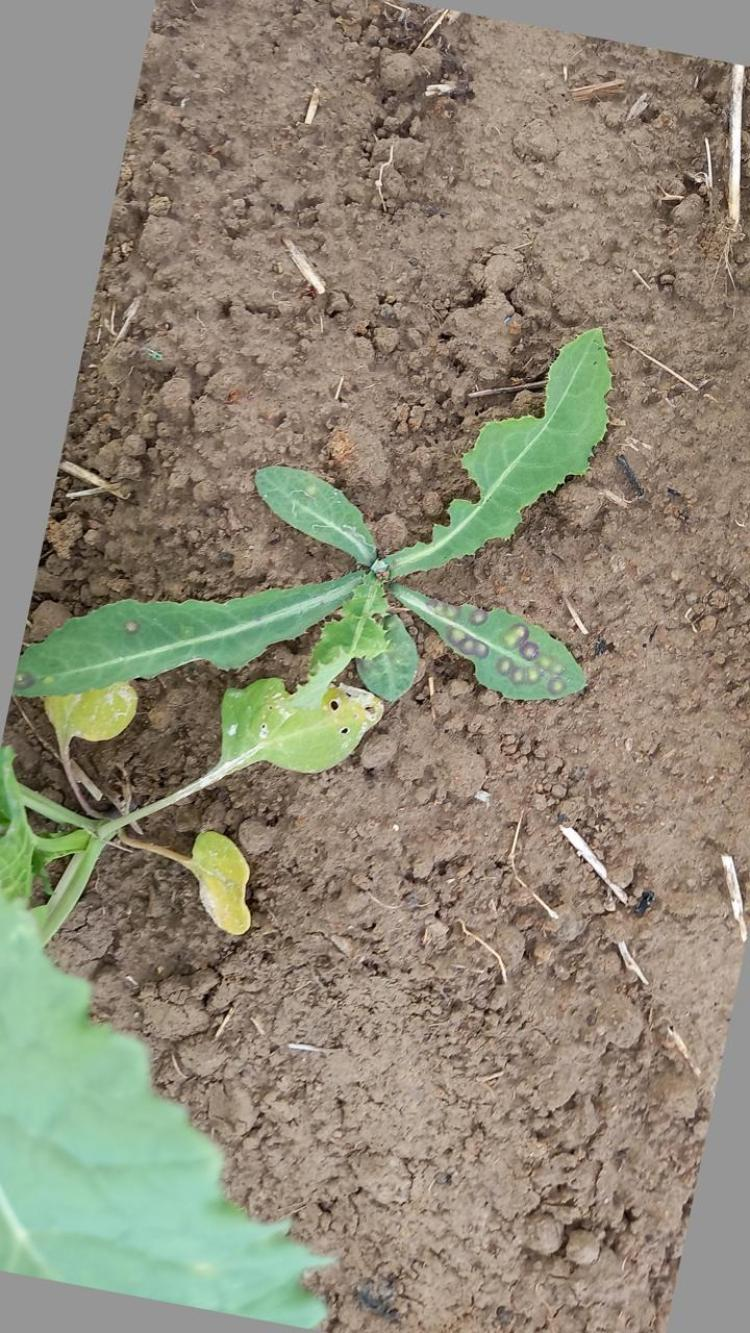bodyak: (12, 327, 614, 708)
